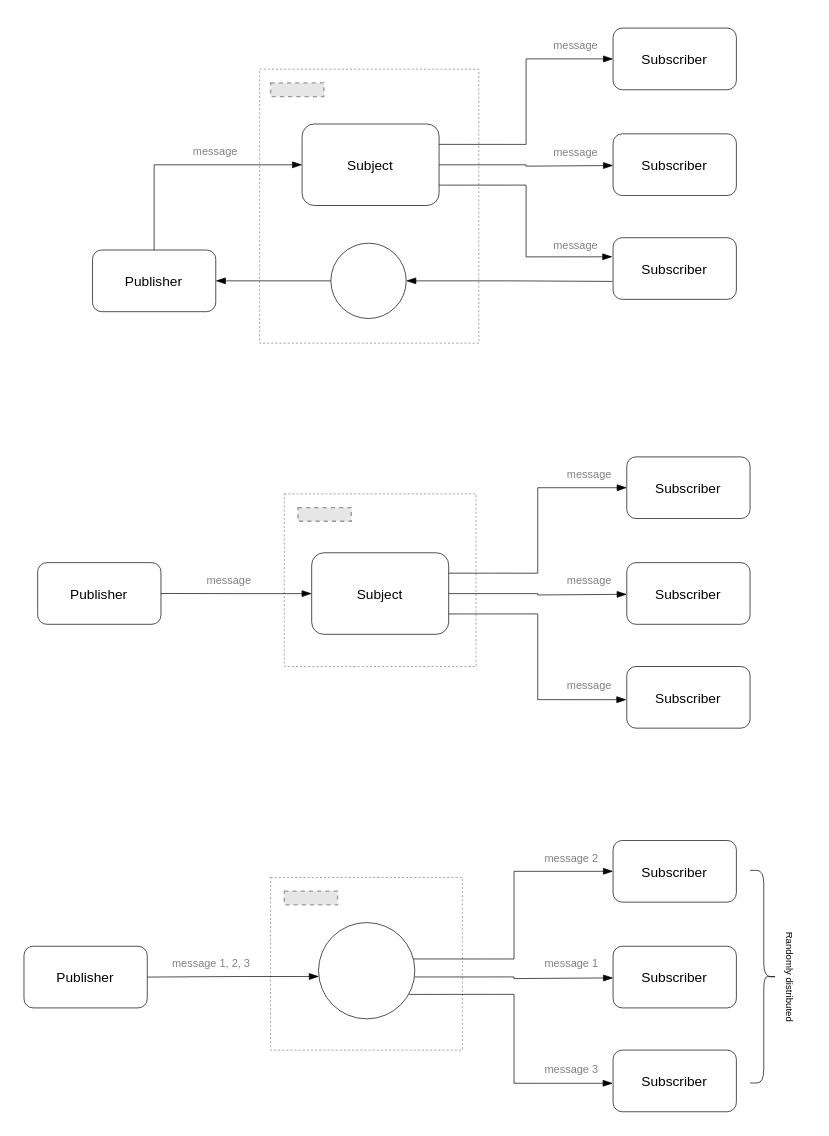
The diagram is 829 pixels wide and 1136 high, and some of its shapes have lost their labels. Grey dashed boxes stand in for pictures. The box of each missing label's shape, as (x1, y1, x2, y2) in pixels:
Queue: (318, 922, 415, 1019)
Reply: (330, 242, 406, 318)
